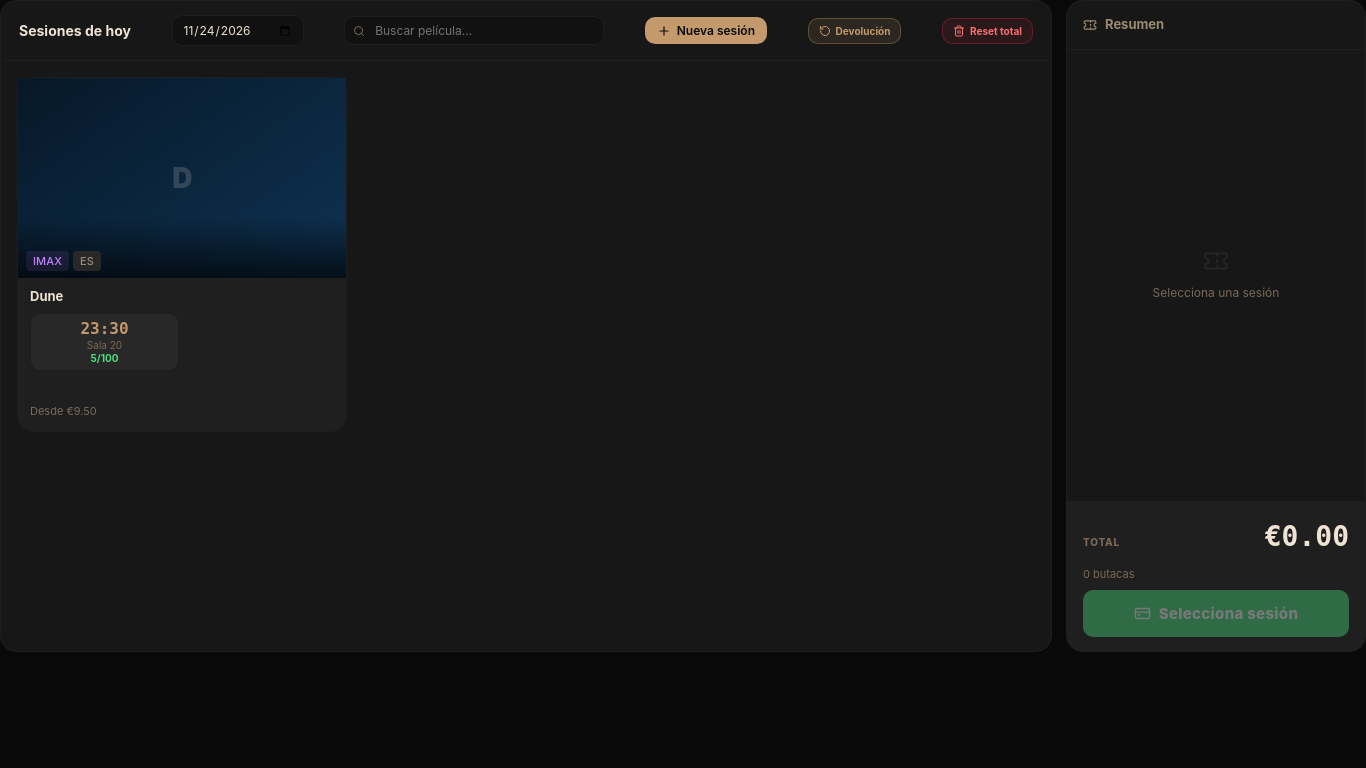
BoxOfficePage — deep flow › handles a session without theater info — uses room_id lookup
Step 1. Click the button "23:30 Sala 20 5/100" → (104, 342), box [30,313,179,371]
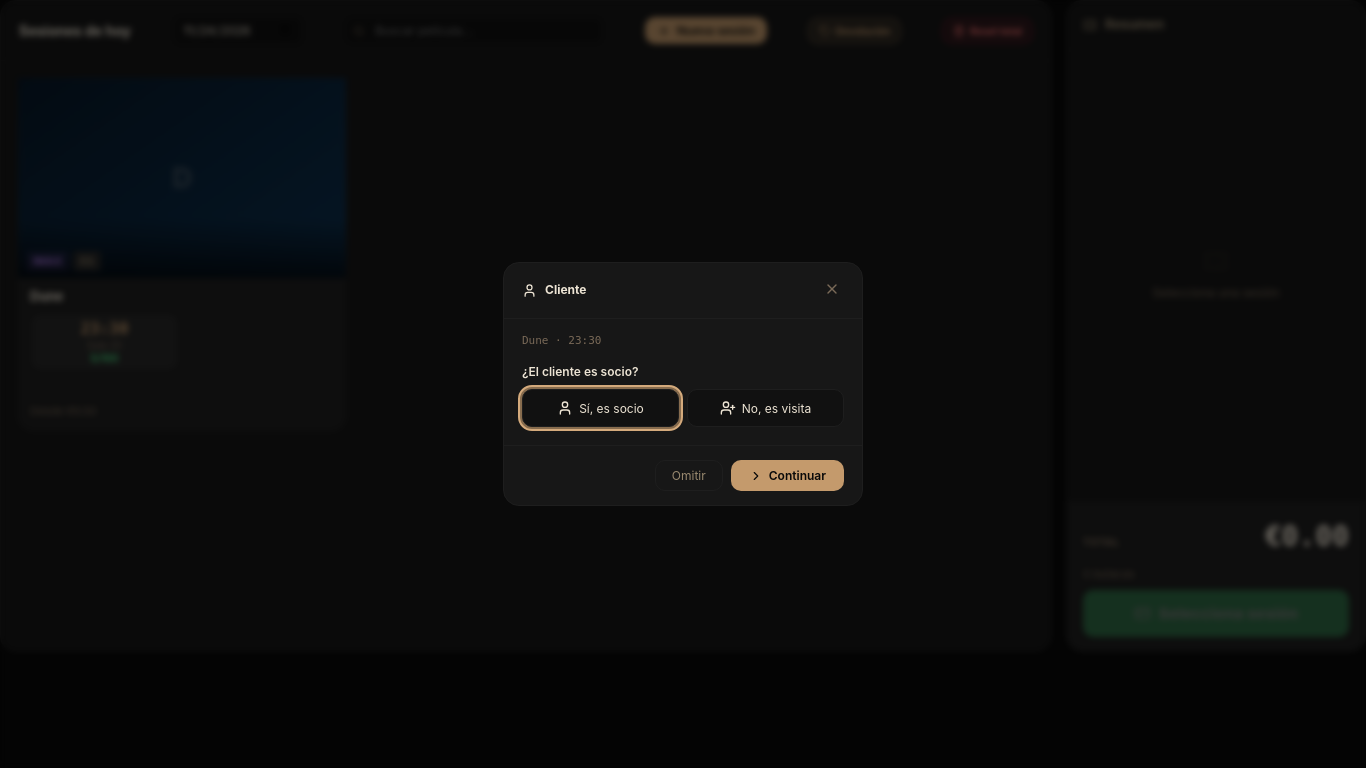
Step 2. Click the button "Omitir" → (689, 476), box [655,460,723,491]
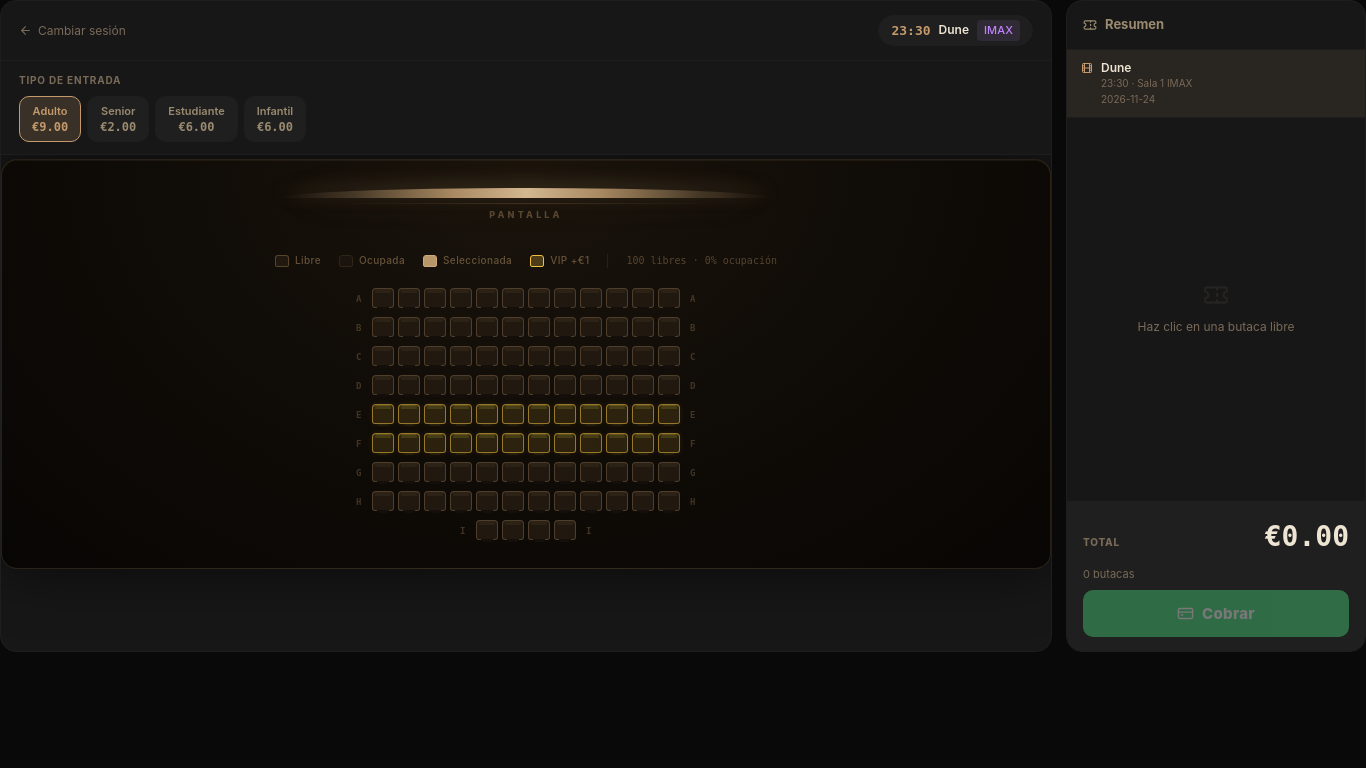
Expected: the button named "Butaca A06 libre" is shown, [502,288,524,308]
